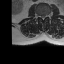CCS_normal: (42, 13, 44, 21)
LFS_stenosis: (46, 13, 48, 18)
LLS_normal: (44, 13, 46, 19)
RFS_stenosis: (38, 13, 40, 18)
RLS_normal: (40, 13, 42, 19)
